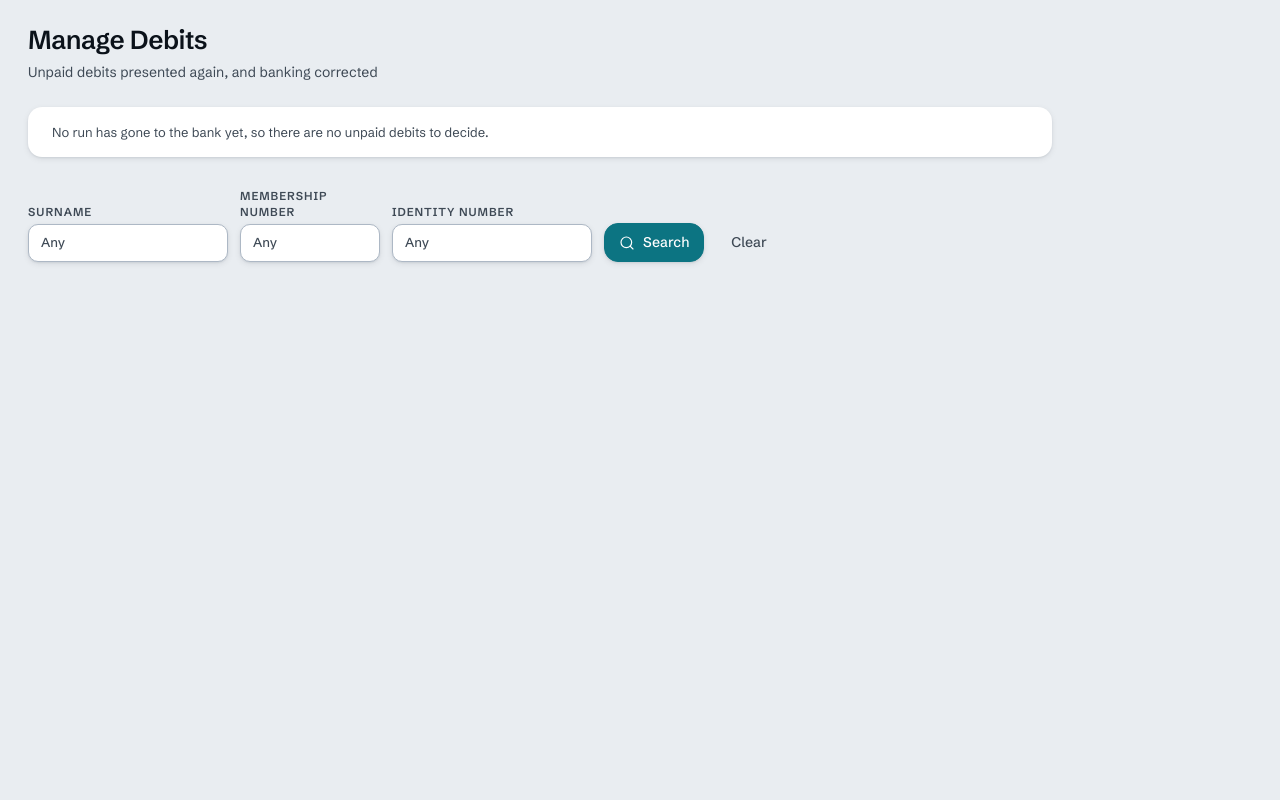
Test: AcbDebits, updating banking details › R4-F1 + R3-F2: a refused update is said inside the dialog, and says it was not saved
Type "Testperson" into the field labelled "Surname" at (128, 243), box [28, 224, 228, 262]
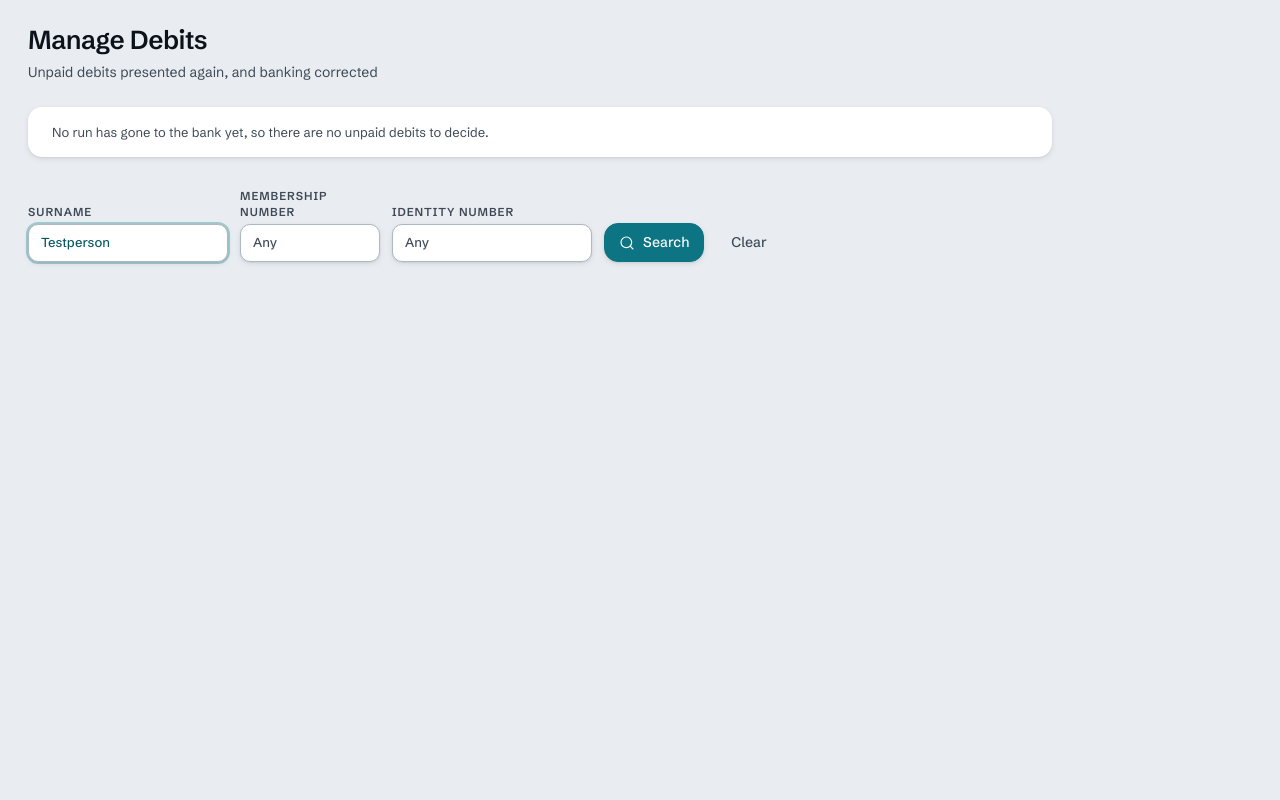
Click the button "Search" at (654, 243), box [604, 223, 704, 262]
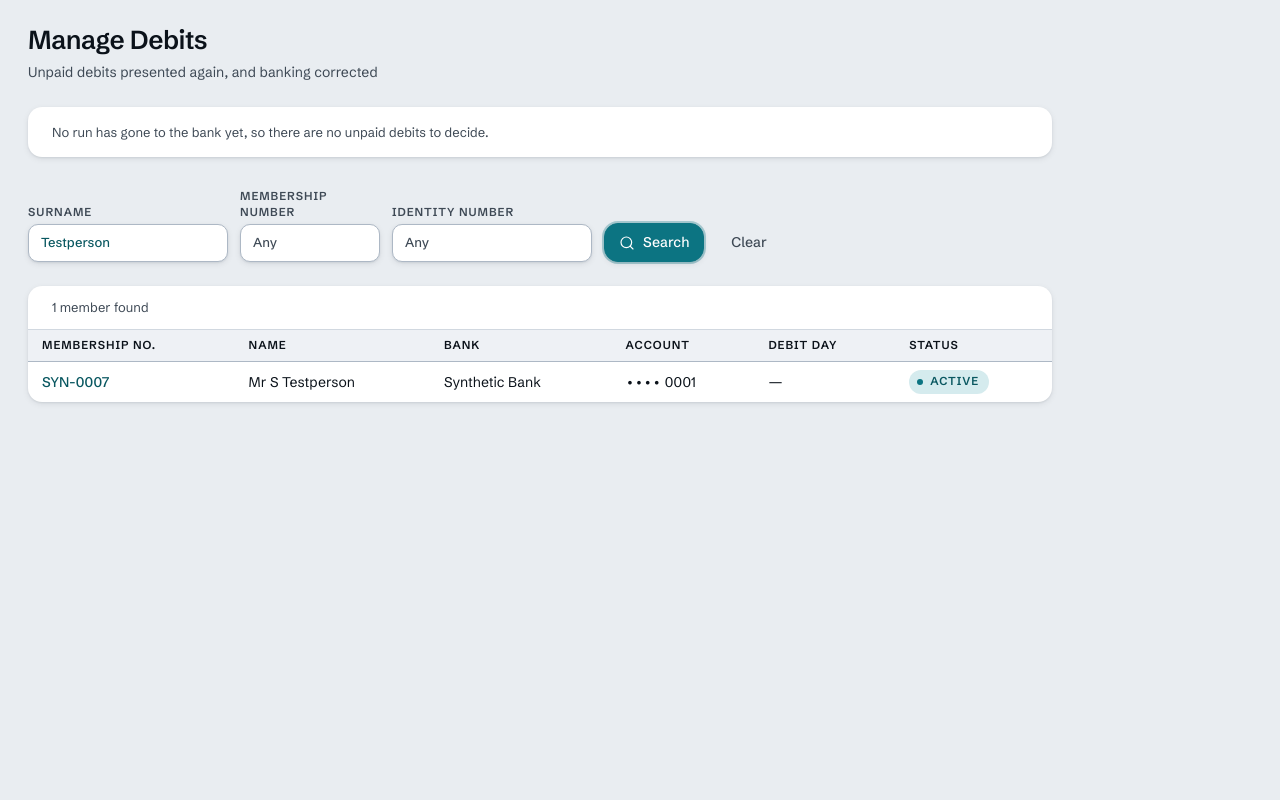
Click the button with aria-label "load banking details" at (76, 382), box [42, 372, 109, 392]
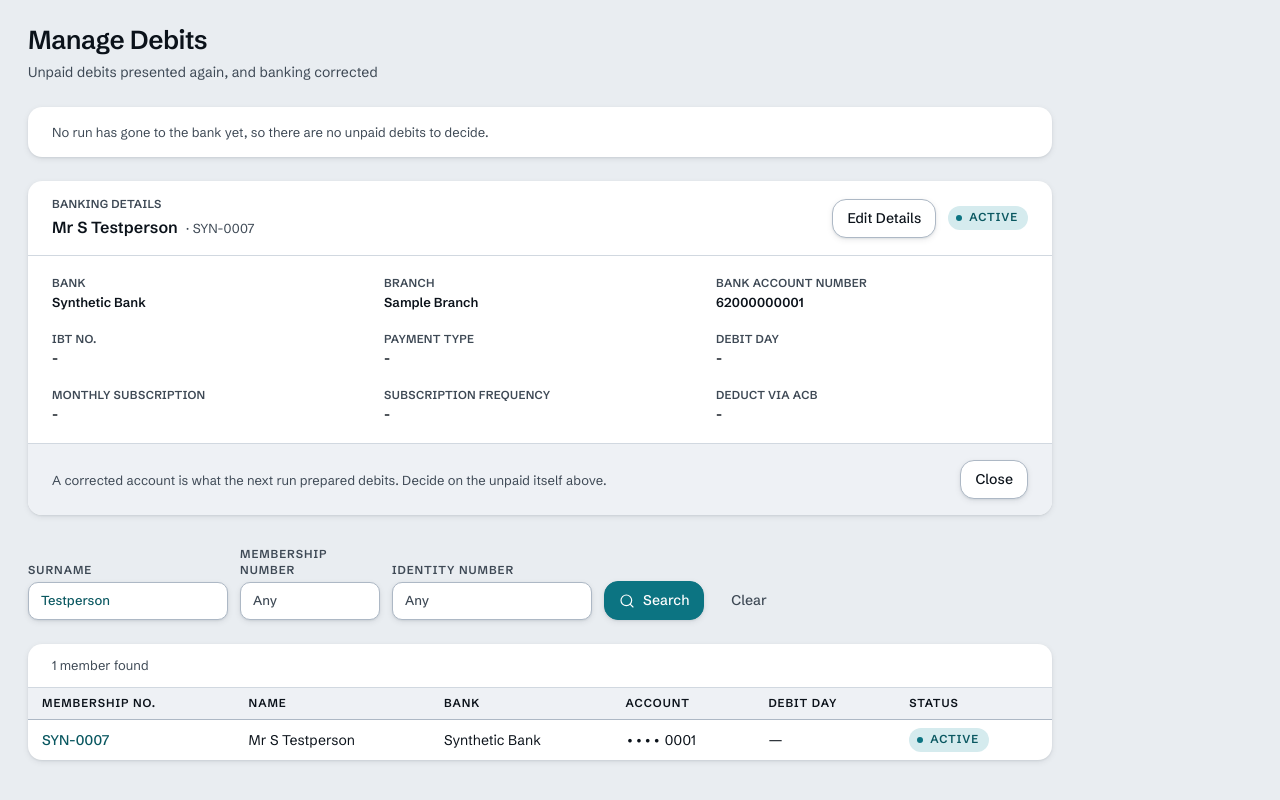
Click the button "Edit Details" at (884, 218), box [832, 199, 936, 238]
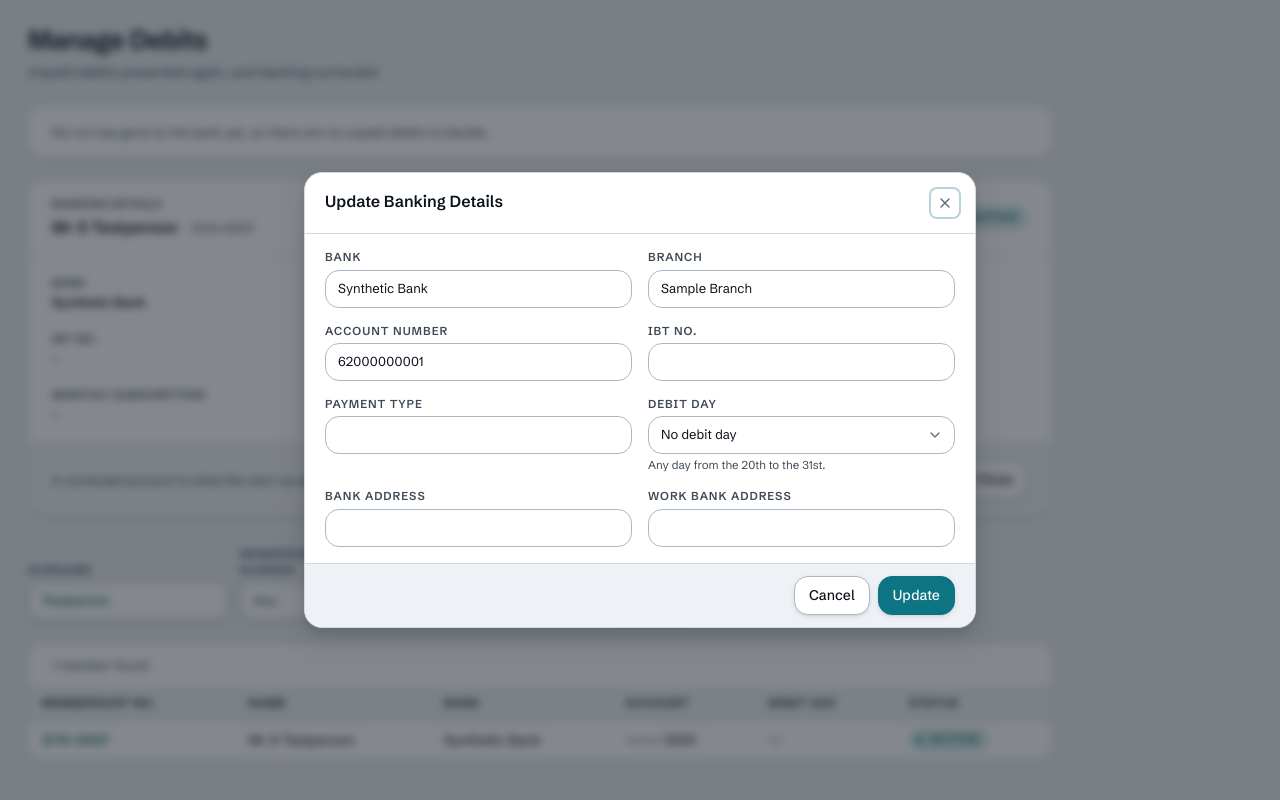
Click the button "Update" at (916, 595), box [878, 576, 955, 615]
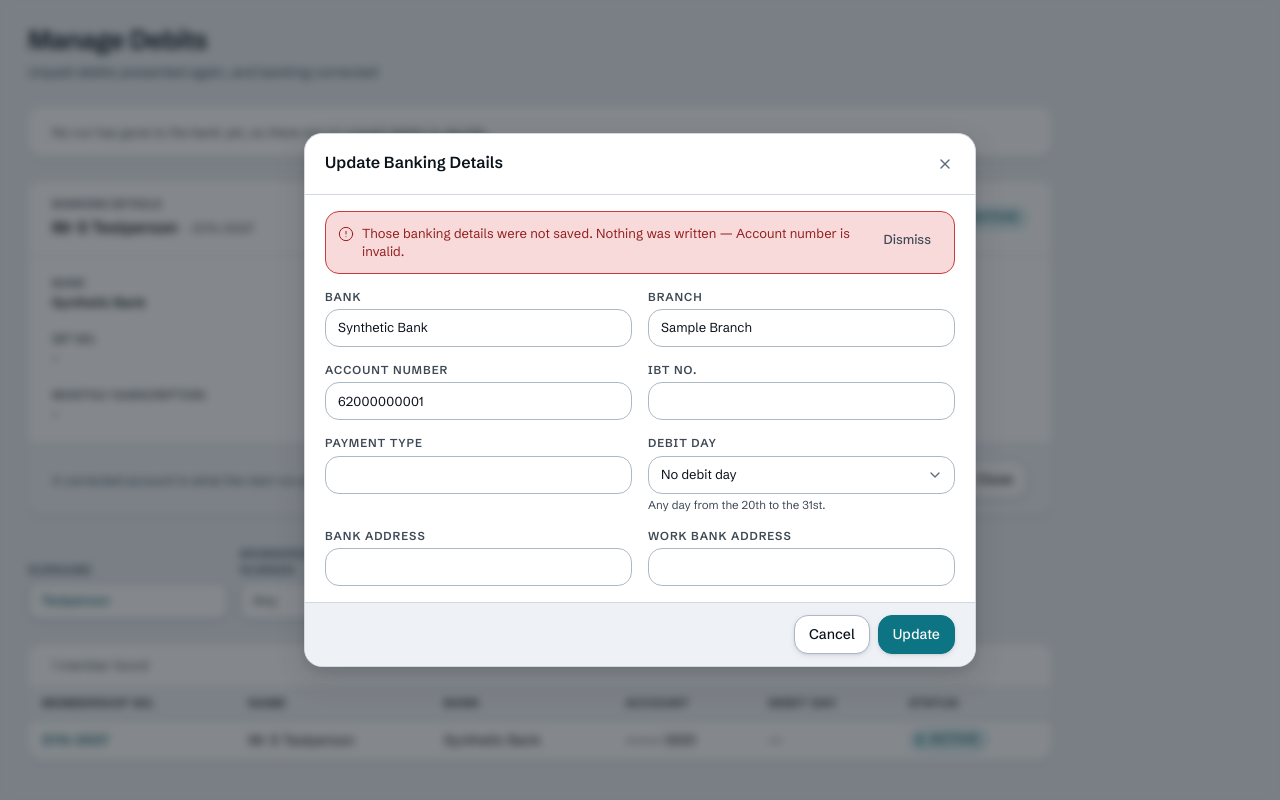
Expected: the message shows "were not saved", [362, 225, 850, 259]
Expected: the message shows "Account number is invalid.", [362, 225, 850, 259]
